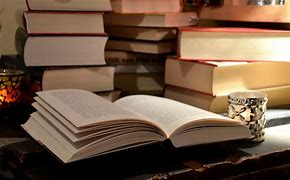book: (17, 88, 259, 164), (176, 26, 290, 62), (18, 34, 111, 67)
